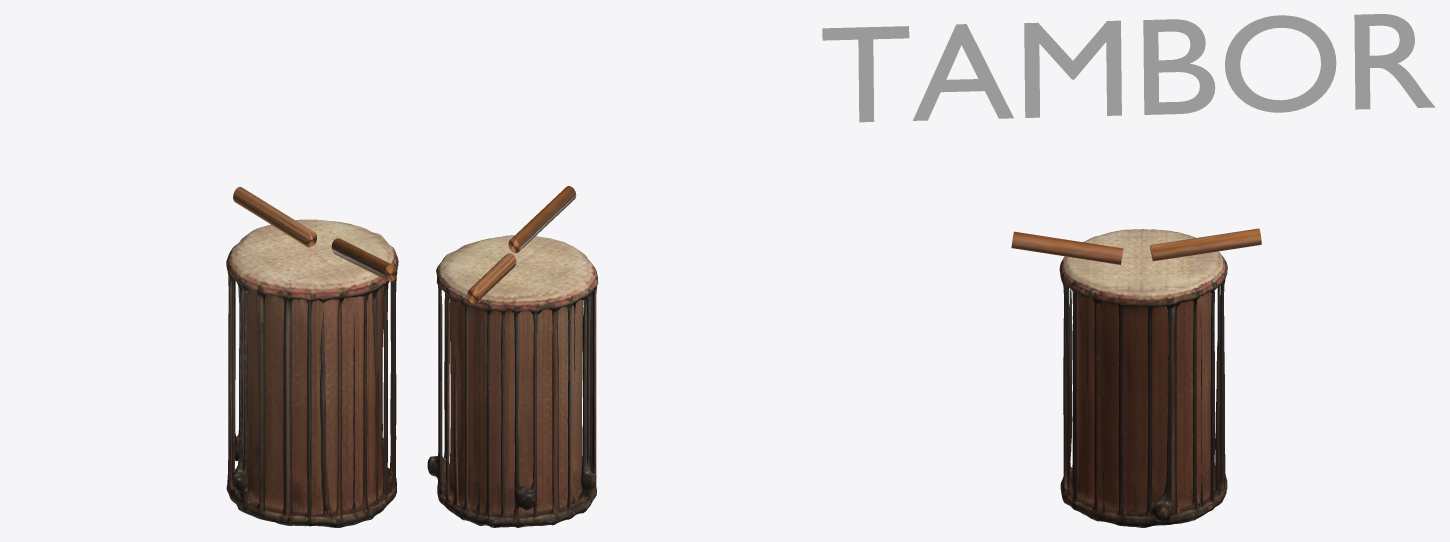
Rendered from tamborileros.glb.
The picture shows the model from 3 angles, left to right: view 1: azimuth 30°, elevation 25°; view 2: azimuth 150°, elevation 25°; view 3: azimuth 270°, elevation 25°; orthographic projection. The views are drawn at different scales.
Parts seen in each view (by area): view 1: mesh, baqueta L, baqueta R; view 2: mesh, baqueta R, baqueta L; view 3: mesh, Texto, baqueta R, baqueta L.
Part boxes in pixels (box(x1,y1,x2,y2)): mesh: box(226, 219, 398, 527); baqueta L: box(233, 187, 316, 247); baqueta R: box(331, 238, 397, 281); mesh: box(427, 235, 598, 527); baqueta R: box(508, 186, 576, 253); baqueta L: box(467, 253, 516, 303); mesh: box(1059, 229, 1227, 527); Texto: box(822, 14, 1435, 122); baqueta R: box(1011, 231, 1123, 264); baqueta L: box(1150, 228, 1261, 261).
Size of the model in its own units: 1.7 by 3.01 by 4.03.
2 materials, 2 textured.
